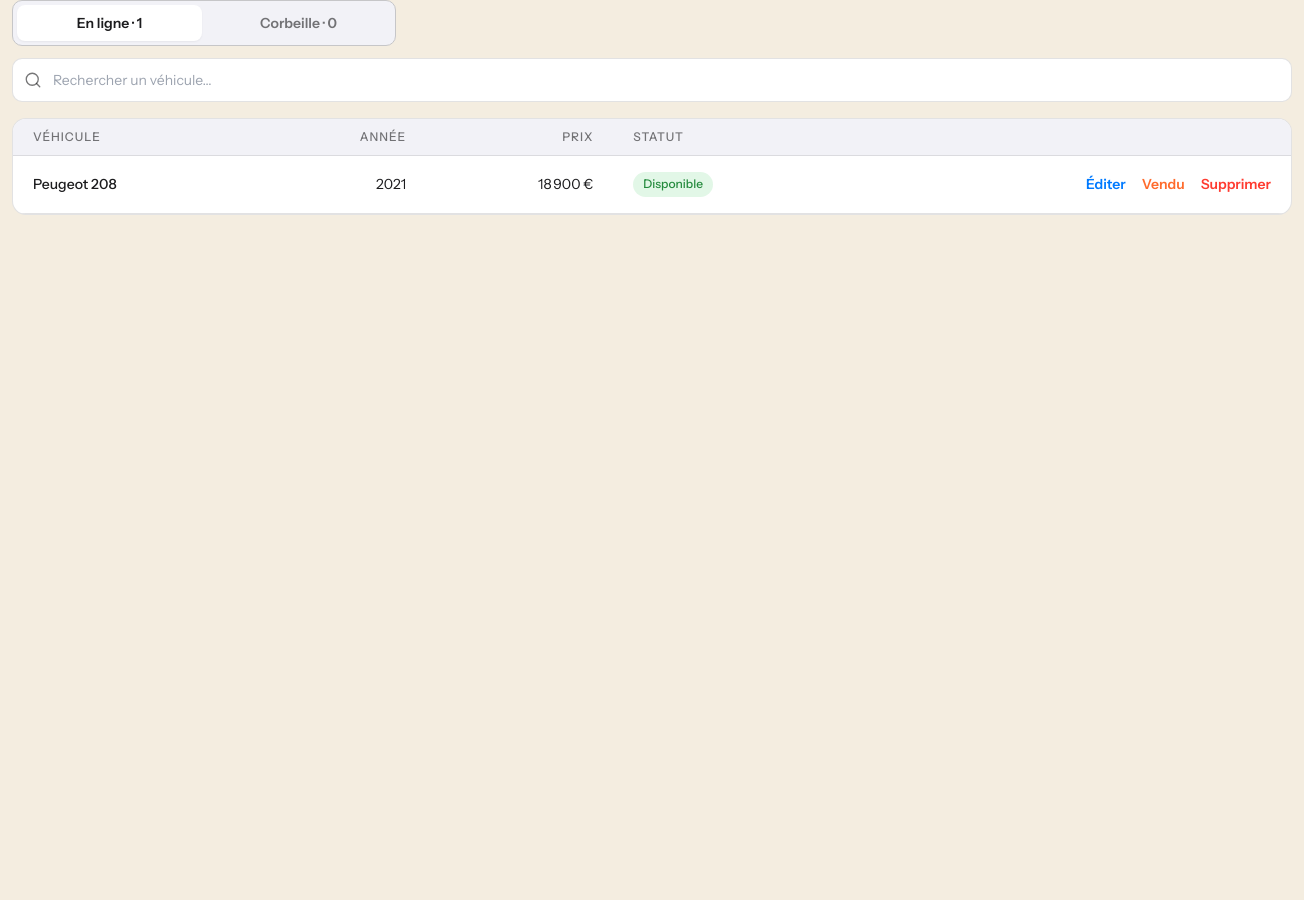
it: Corbeille du BO › un refus (édition concurrente) est affiché, jamais avalé
Click the button "Supprimer" at (1236, 184), box [1201,174,1271,195]
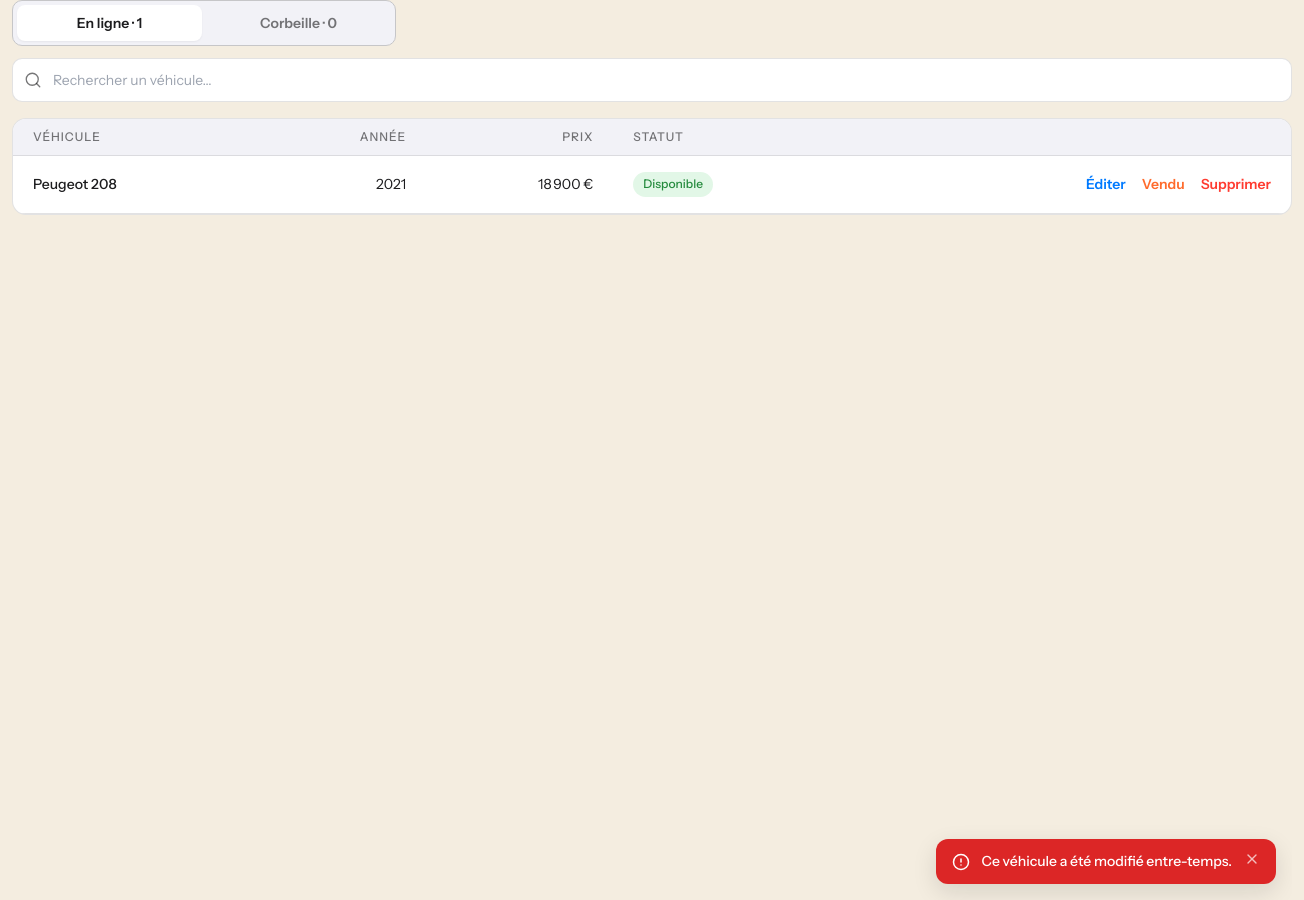
Expected: the text "Ce véhicule a été modifié entre-temps." is shown, [982,851,1232,872]
